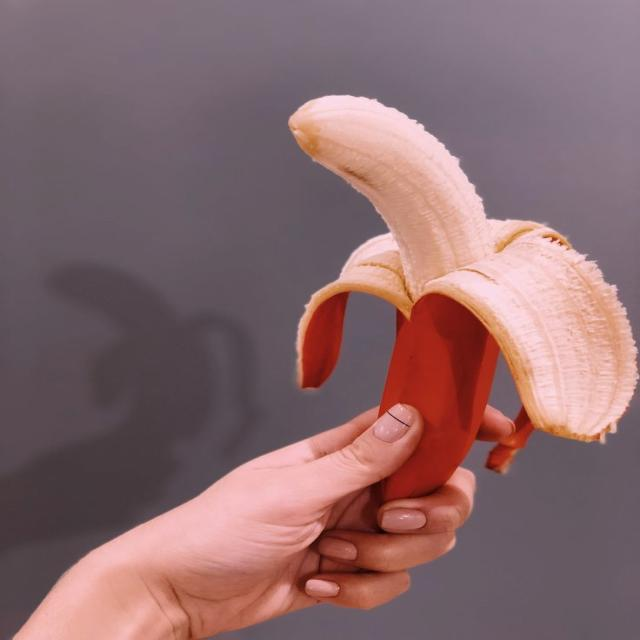banana: (290, 96, 637, 440)
